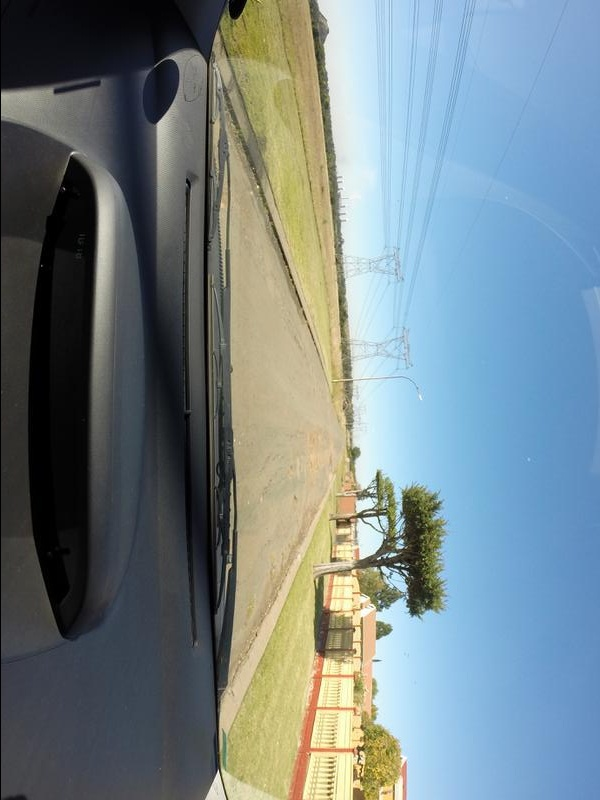pothole: (307, 436, 317, 482), (289, 462, 300, 478), (292, 494, 297, 508)
